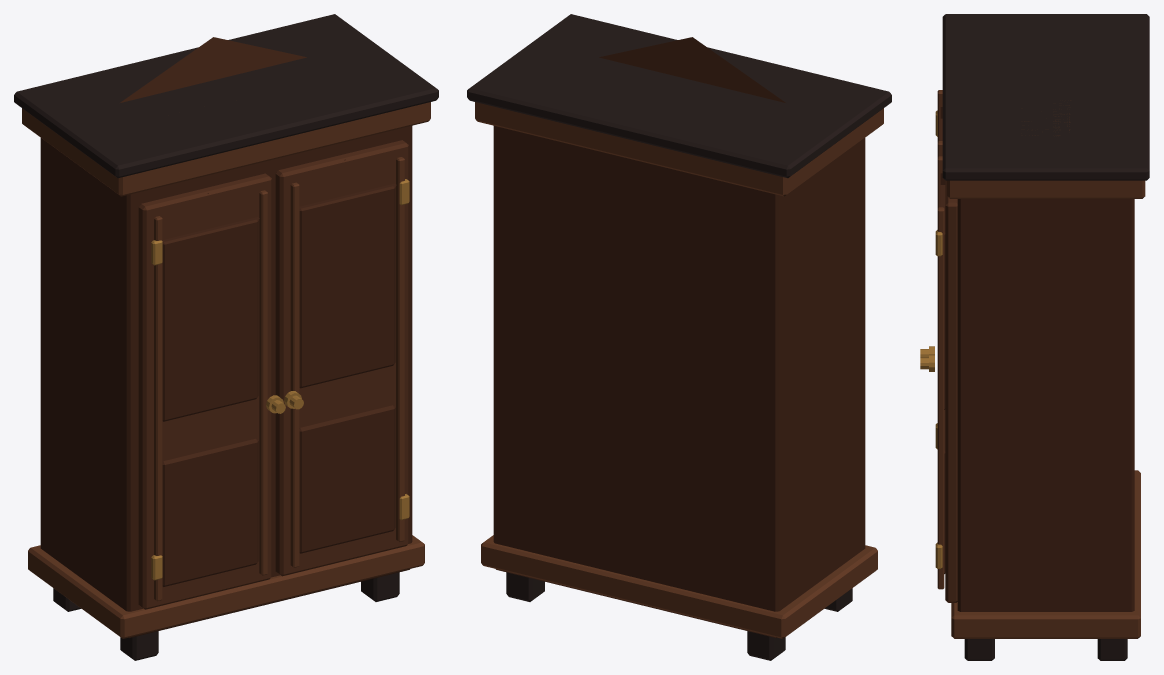
File: InnWardrobe.glb
The picture shows the model from 3 angles, left to right: view 1: azimuth 30°, elevation 25°; view 2: azimuth 150°, elevation 25°; view 3: azimuth 270°, elevation 25°; orthographic projection.
Visible parts, largest first — view 1: WardrobeBody, CrownLip, Door_L, Door_R, UpperDoorPanel.001, UpperDoorPanel, LowerDoorPanel.001, LowerDoorPanel, BaseMoulding, Cornice, WardrobePediment, DoorStile.001 (+5 smaller); view 2: WardrobeBody, CrownLip, BaseMoulding, Cornice, WardrobePediment, WardrobeFoot.001, WardrobeFoot.003; view 3: WardrobeBody, CrownLip, BaseMoulding, Door_R, Cornice, DoorStile.003, WardrobeFoot.003, WardrobeFoot.002, UpperDoorPanel.001.
Boxes of the visible parts, bbox=[...] form: WardrobeBody: bbox=[40, 126, 412, 638]; CrownLip: bbox=[14, 14, 438, 178]; Door_L: bbox=[138, 173, 271, 609]; Door_R: bbox=[275, 140, 408, 576]; UpperDoorPanel.001: bbox=[299, 186, 395, 388]; UpperDoorPanel: bbox=[162, 219, 258, 421]; LowerDoorPanel.001: bbox=[299, 405, 395, 553]; LowerDoorPanel: bbox=[162, 438, 258, 586]; BaseMoulding: bbox=[28, 535, 424, 638]; Cornice: bbox=[22, 102, 430, 196]; WardrobePediment: bbox=[120, 37, 306, 102]; DoorStile.001: bbox=[259, 190, 268, 575]; WardrobeBody: bbox=[493, 126, 865, 638]; CrownLip: bbox=[467, 14, 891, 178]; BaseMoulding: bbox=[481, 535, 877, 638]; Cornice: bbox=[475, 102, 883, 196]; WardrobePediment: bbox=[599, 37, 785, 102]; WardrobeFoot.001: bbox=[747, 631, 785, 660]; WardrobeFoot.003: bbox=[506, 572, 544, 601]; WardrobeBody: bbox=[957, 199, 1134, 611]; CrownLip: bbox=[942, 14, 1149, 180]; BaseMoulding: bbox=[951, 470, 1140, 638]; Door_R: bbox=[945, 180, 957, 602]; Cornice: bbox=[947, 180, 1145, 198]; DoorStile.003: bbox=[937, 207, 944, 589]; WardrobeFoot.003: bbox=[1097, 639, 1127, 660]; WardrobeFoot.002: bbox=[964, 639, 994, 660]; UpperDoorPanel.001: bbox=[944, 232, 945, 409].
Size of the model in its own units: 4.3 by 7.03 by 2.66.
